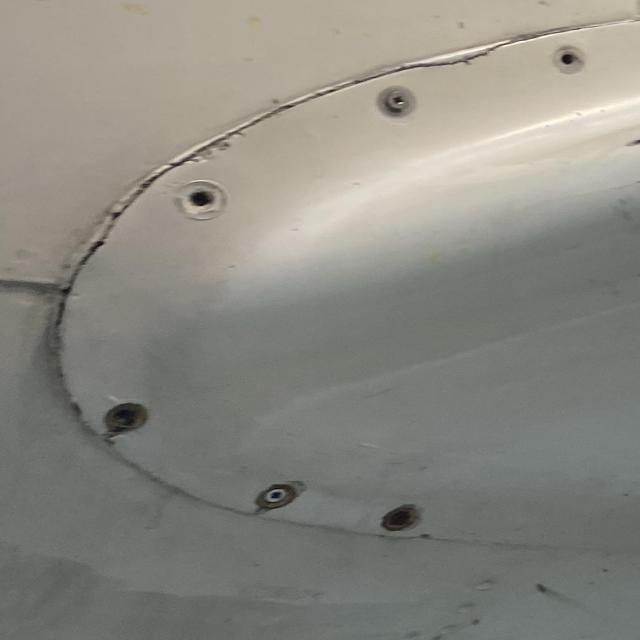Crack: (39, 169, 171, 332), (158, 102, 281, 170), (358, 38, 528, 83), (635, 175, 640, 184)
Missing-head: (173, 181, 222, 219), (103, 402, 150, 435), (377, 504, 418, 535), (549, 45, 583, 73)
